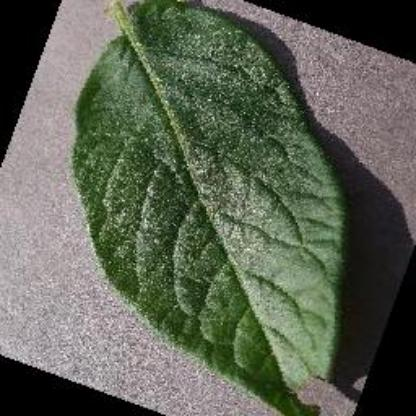Healthy-plant: (30, 9, 401, 401)
